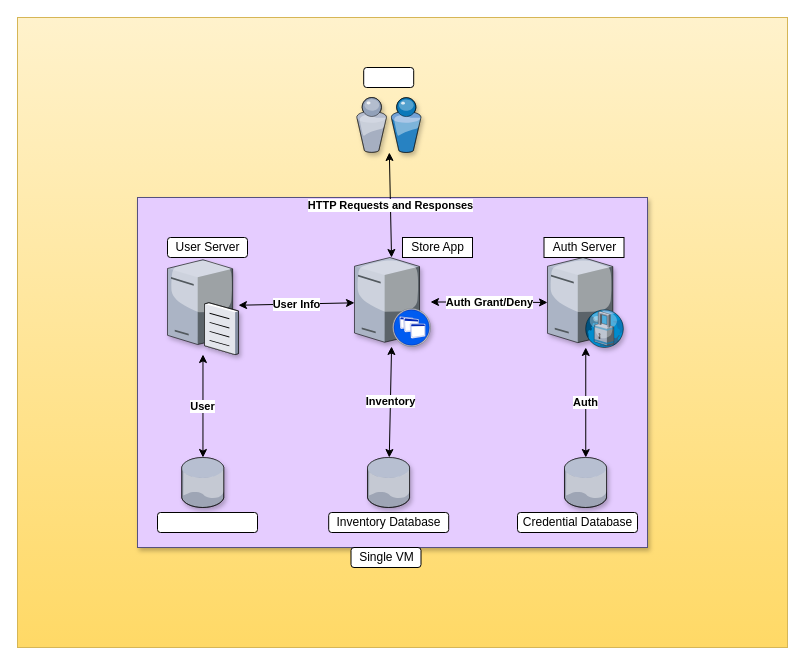
Some shapes in this 805 by 665 pixel diagram are drawn without their labels. The shapes that lost their labels are listed below. From the top down, each one's centre as x and y in pixels, then its label:
At point (388, 77): "Users".
At point (207, 522): "User Database".
